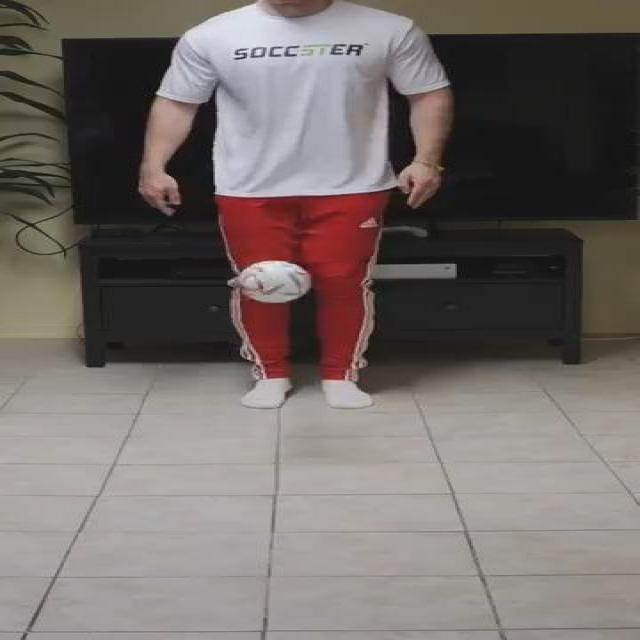Soccer Ball: (230, 259, 314, 305)
